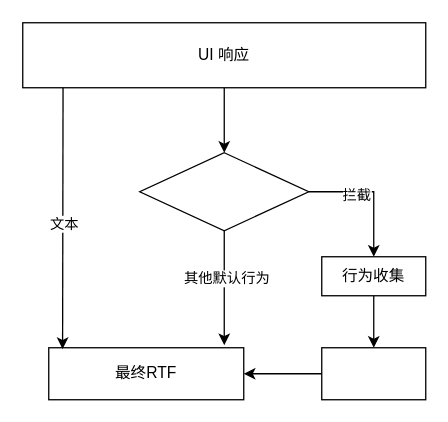
This 448x422 diagram has some shape labels left out. Each missing label, with the centre of its shape:
"用户行为" belongs at [223,191].
"行为处理" belongs at [373,373].
